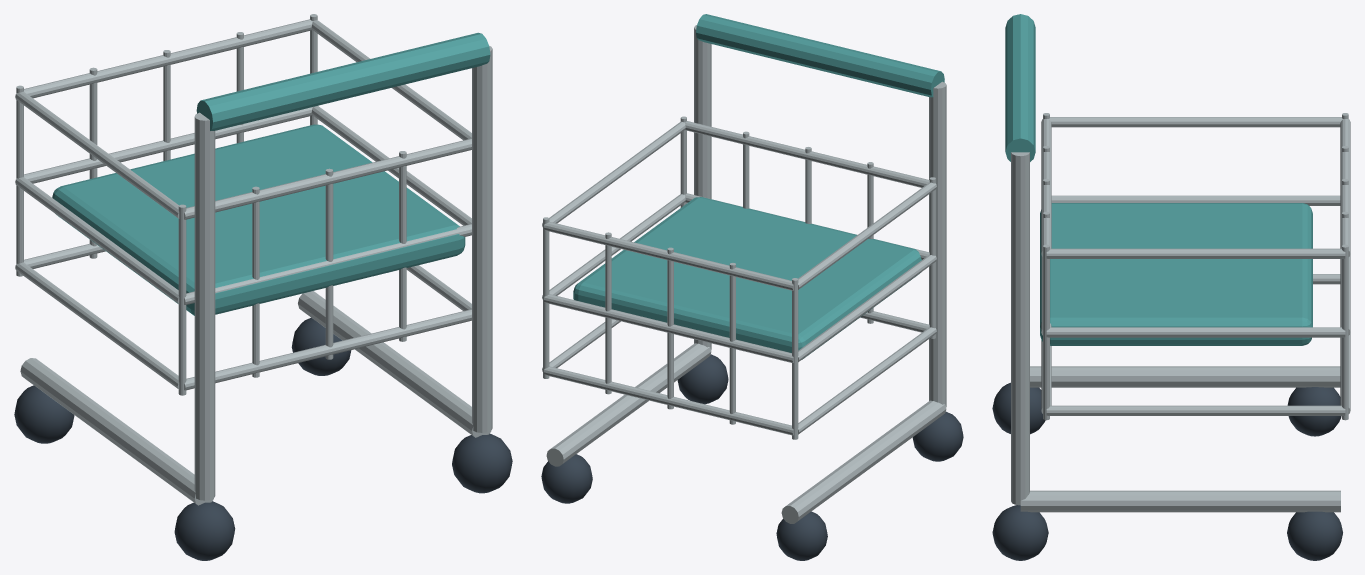
File: chair_shopping_cart.glb
3 renders of one model, left to right at view 1: azimuth 30°, elevation 25°; view 2: azimuth 150°, elevation 25°; view 3: azimuth 270°, elevation 25°, orthographic. The views are drawn at different scales.
Visible parts, largest first — view 1: shopping_cart; view 2: shopping_cart; view 3: shopping_cart.
Part boxes in pixels (left/top/right/bottom): shopping_cart: left=14, top=14, right=512, bottom=560; shopping_cart: left=541, top=14, right=963, bottom=560; shopping_cart: left=992, top=14, right=1350, bottom=560.
Size of the model in its own units: 0.81 by 1.07 by 0.827.
